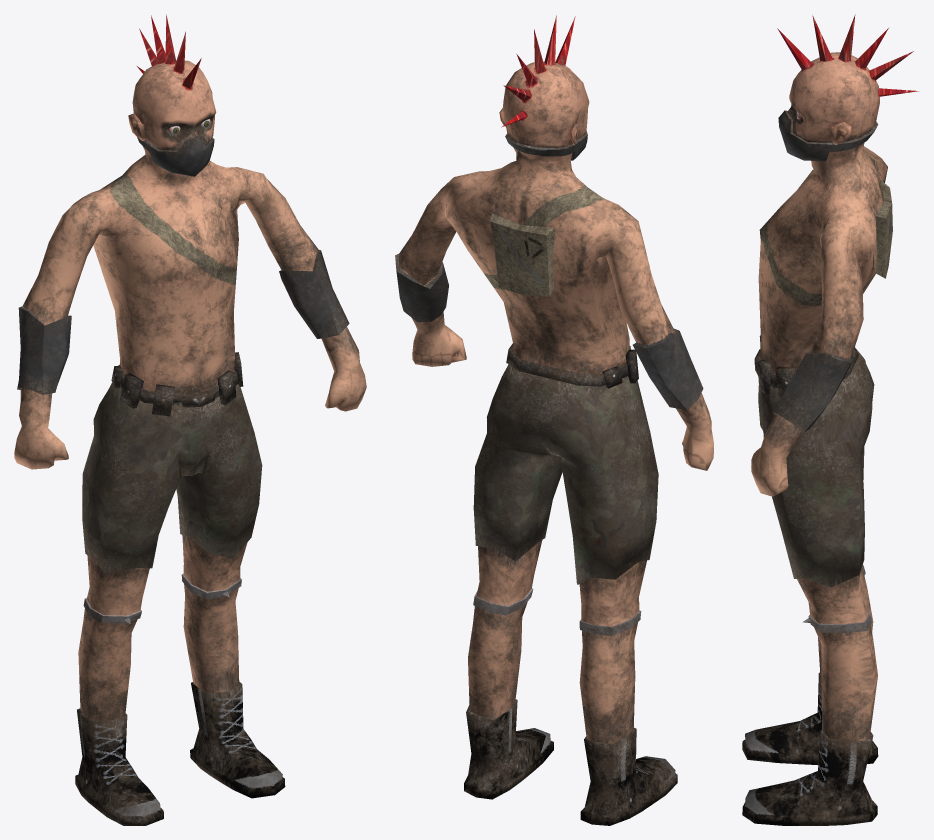
Rendered from Anim_idle_npc2.0053.obj.
The picture shows the model from 3 angles, left to right: view 1: azimuth 30°, elevation 25°; view 2: azimuth 150°, elevation 25°; view 3: azimuth 270°, elevation 25°; orthographic projection. The views are drawn at different scales.
Parts seen in each view (by area): view 1: polySurface1; view 2: polySurface1; view 3: polySurface1.
Boxes of the visible parts, x1,y1,x2,y2 form: polySurface1: [14, 14, 366, 825]; polySurface1: [395, 15, 713, 825]; polySurface1: [742, 14, 918, 825].
Size of the model in its own units: 4.53 by 10.17 by 2.1.
Materials: 2 (2 with a texture image).
